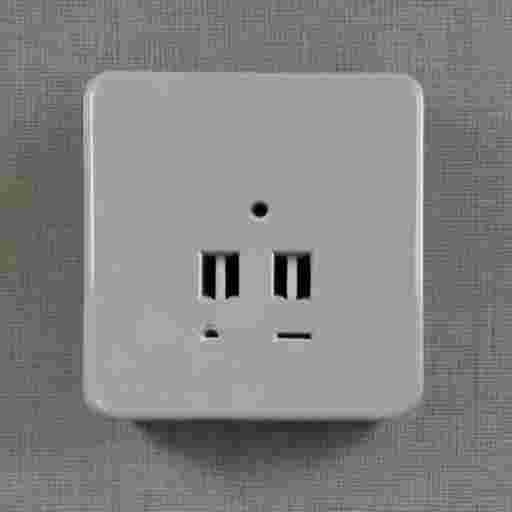power outlet: (83, 72, 422, 419)
